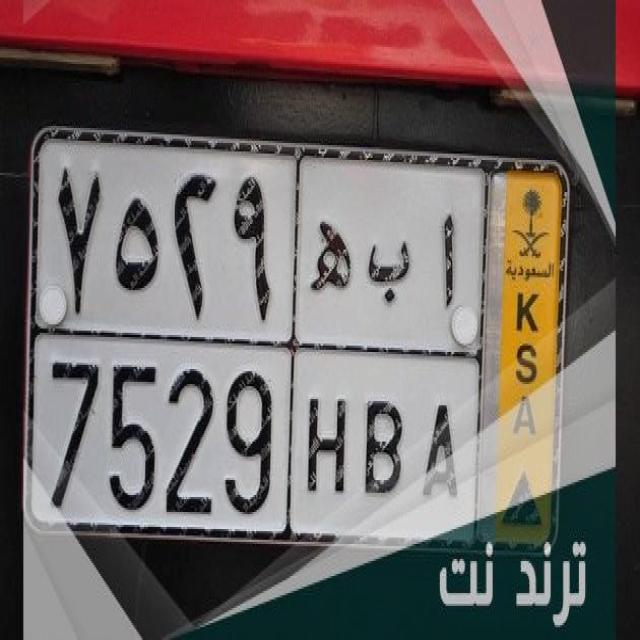license_plate: (44, 353, 469, 528)
